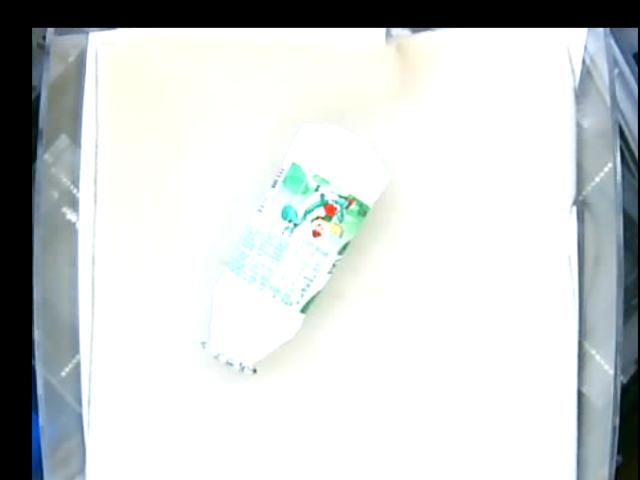Bottle: (201, 117, 390, 370)
